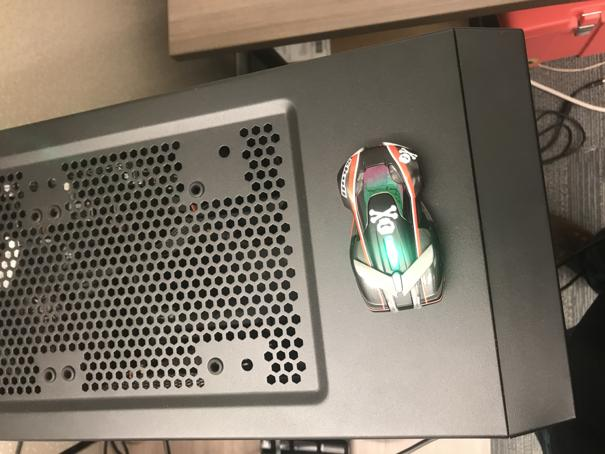Skull: (338, 141, 451, 312)
